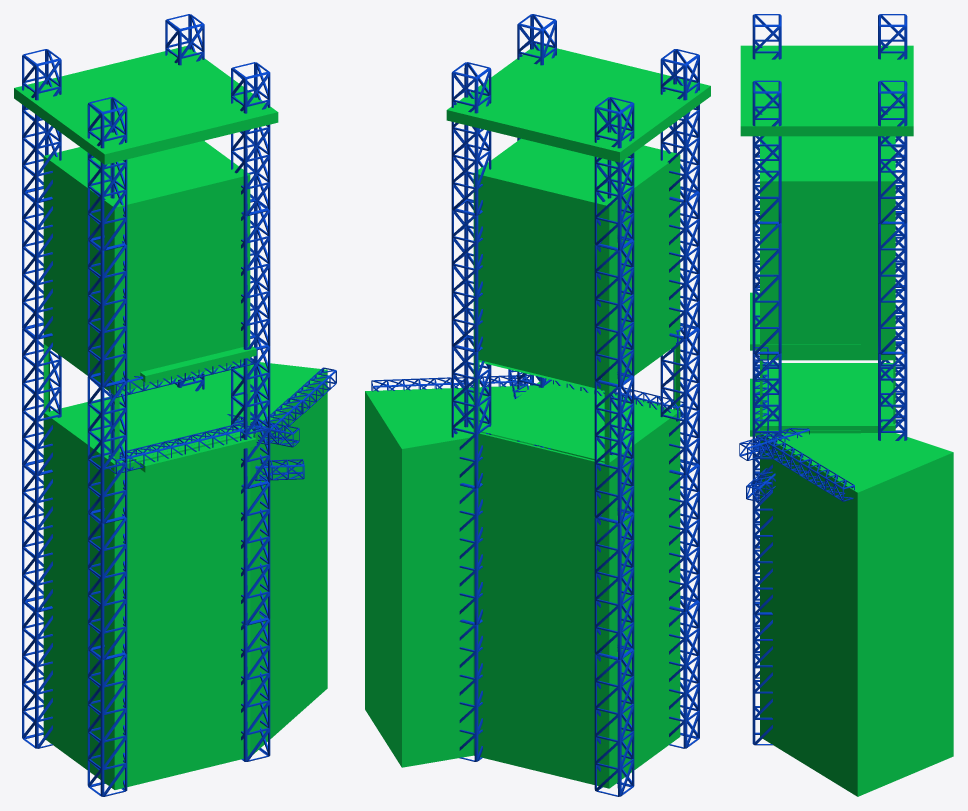
The model's file is Tower_02.fbx.
3 views of the same model, side by side, from view 1: azimuth 30°, elevation 25°; view 2: azimuth 150°, elevation 25°; view 3: azimuth 270°, elevation 25° (orthographic). The views are drawn at different scales.
Visible parts, largest first — view 1: Tower_02; view 2: Tower_02; view 3: Tower_02.
Part boxes in pixels (box(x1,y1,x2,y2)): Tower_02: box(14, 14, 336, 796); Tower_02: box(365, 14, 710, 796); Tower_02: box(739, 14, 953, 796).
Size of the model in its own units: 2376 by 5443 by 1618.
